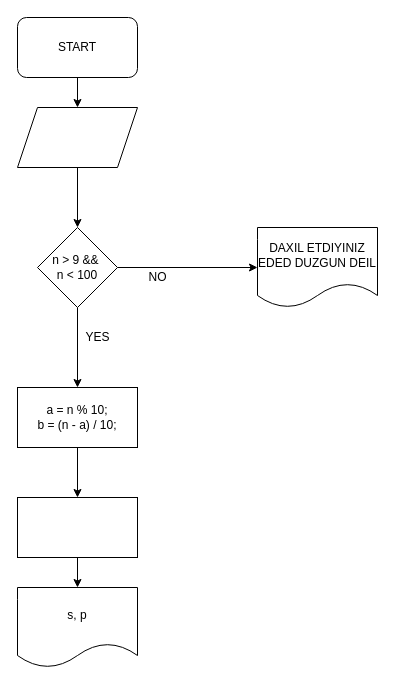
Image size: 395x685. Some labels were removed from this diagram. The centre of each missing label's shape, as x and y in pixels:
"s = a + b; p = a * b;" belongs at (77,527).
"var n" belongs at (77,137).
